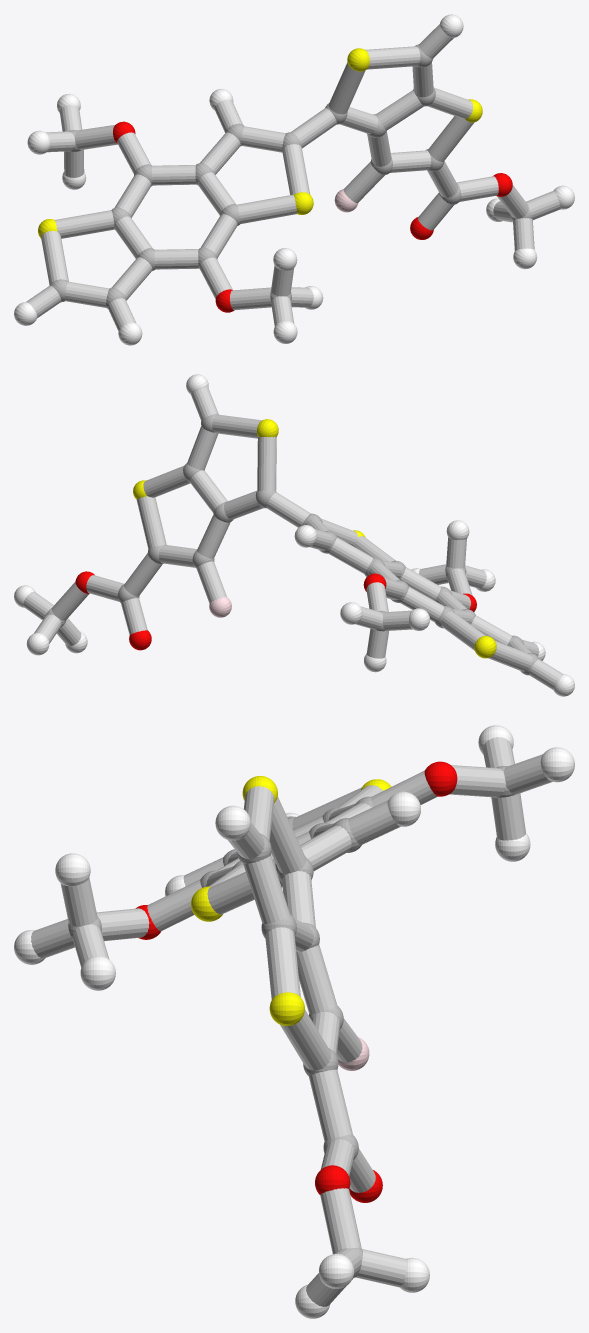
The model's file is color.glb.
3 views of the same model, one above another, from view 1: azimuth 30°, elevation 25°; view 2: azimuth 150°, elevation 25°; view 3: azimuth 270°, elevation 25° (orthographic). The views are drawn at different scales.
Parts seen in each view (by area): view 1: grp15205, grp8689, grp1, grp7241, grp13395; view 2: grp15205, grp8689, grp1, grp7241, grp13395; view 3: grp15205, grp8689, grp1, grp13395, grp7241.
Part boxes in pixels (bbox=[...]): grp15205: bbox=[26, 24, 560, 331]; grp8689: bbox=[14, 14, 574, 345]; grp1: bbox=[49, 44, 532, 308]; grp7241: bbox=[38, 48, 482, 238]; grp13395: bbox=[113, 121, 512, 312]; grp15205: bbox=[23, 387, 562, 689]; grp8689: bbox=[14, 374, 574, 696]; grp1: bbox=[45, 413, 538, 675]; grp7241: bbox=[133, 419, 496, 658]; grp13395: bbox=[75, 571, 476, 650]; grp15205: bbox=[31, 737, 552, 1306]; grp8689: bbox=[14, 725, 574, 1318]; grp1: bbox=[68, 766, 514, 1277]; grp13395: bbox=[135, 761, 457, 1202]; grp7241: bbox=[191, 776, 391, 1025].
Bounding box in the file's own units: 16.54 × 8.19 × 9.51.
